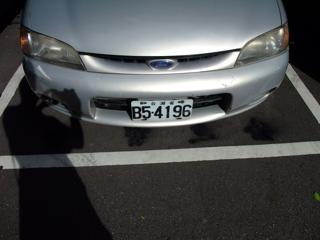plate: (130, 99, 193, 121)
